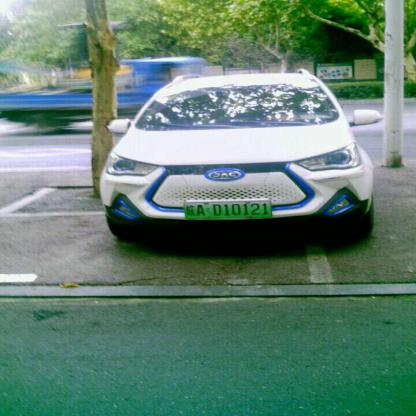lp: (183, 200, 273, 221)
